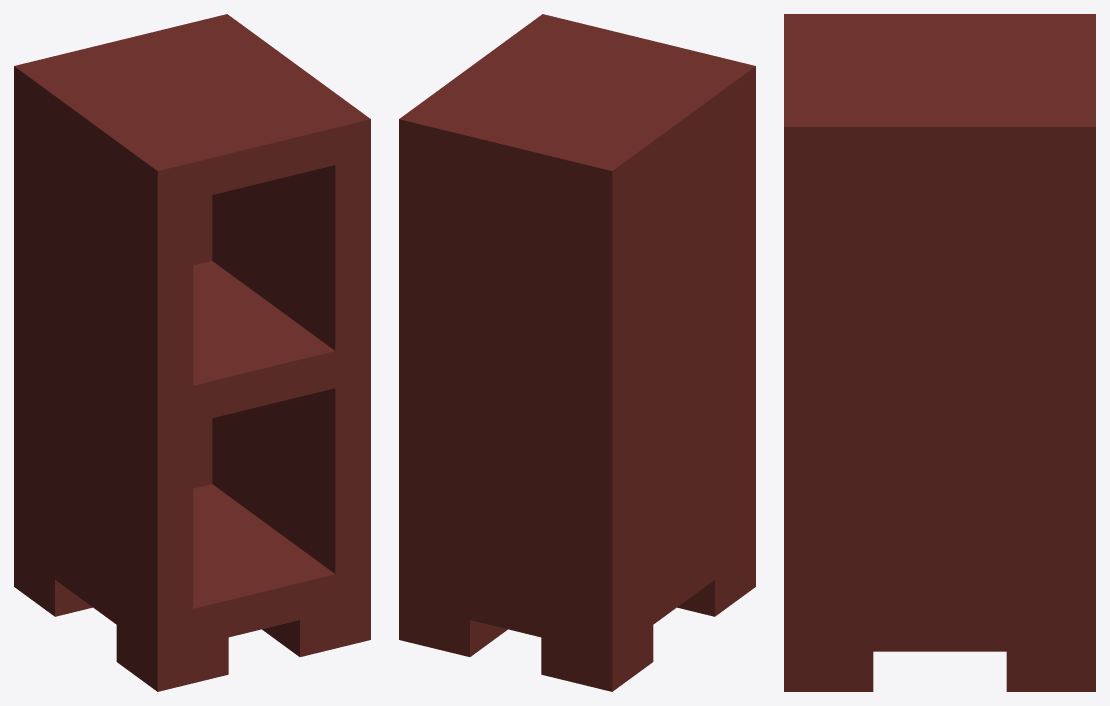
The model's file is small_bookcase_b.obj.
The picture shows the model from 3 angles, left to right: view 1: azimuth 30°, elevation 25°; view 2: azimuth 150°, elevation 25°; view 3: azimuth 270°, elevation 25°; orthographic projection. The views are drawn at different scales.
Size of the model in its own units: 0.6 by 1.4 by 0.7.
1 material, 1 textured.
